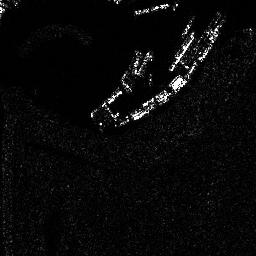ship: (169, 31, 195, 71), (132, 1, 178, 15)
